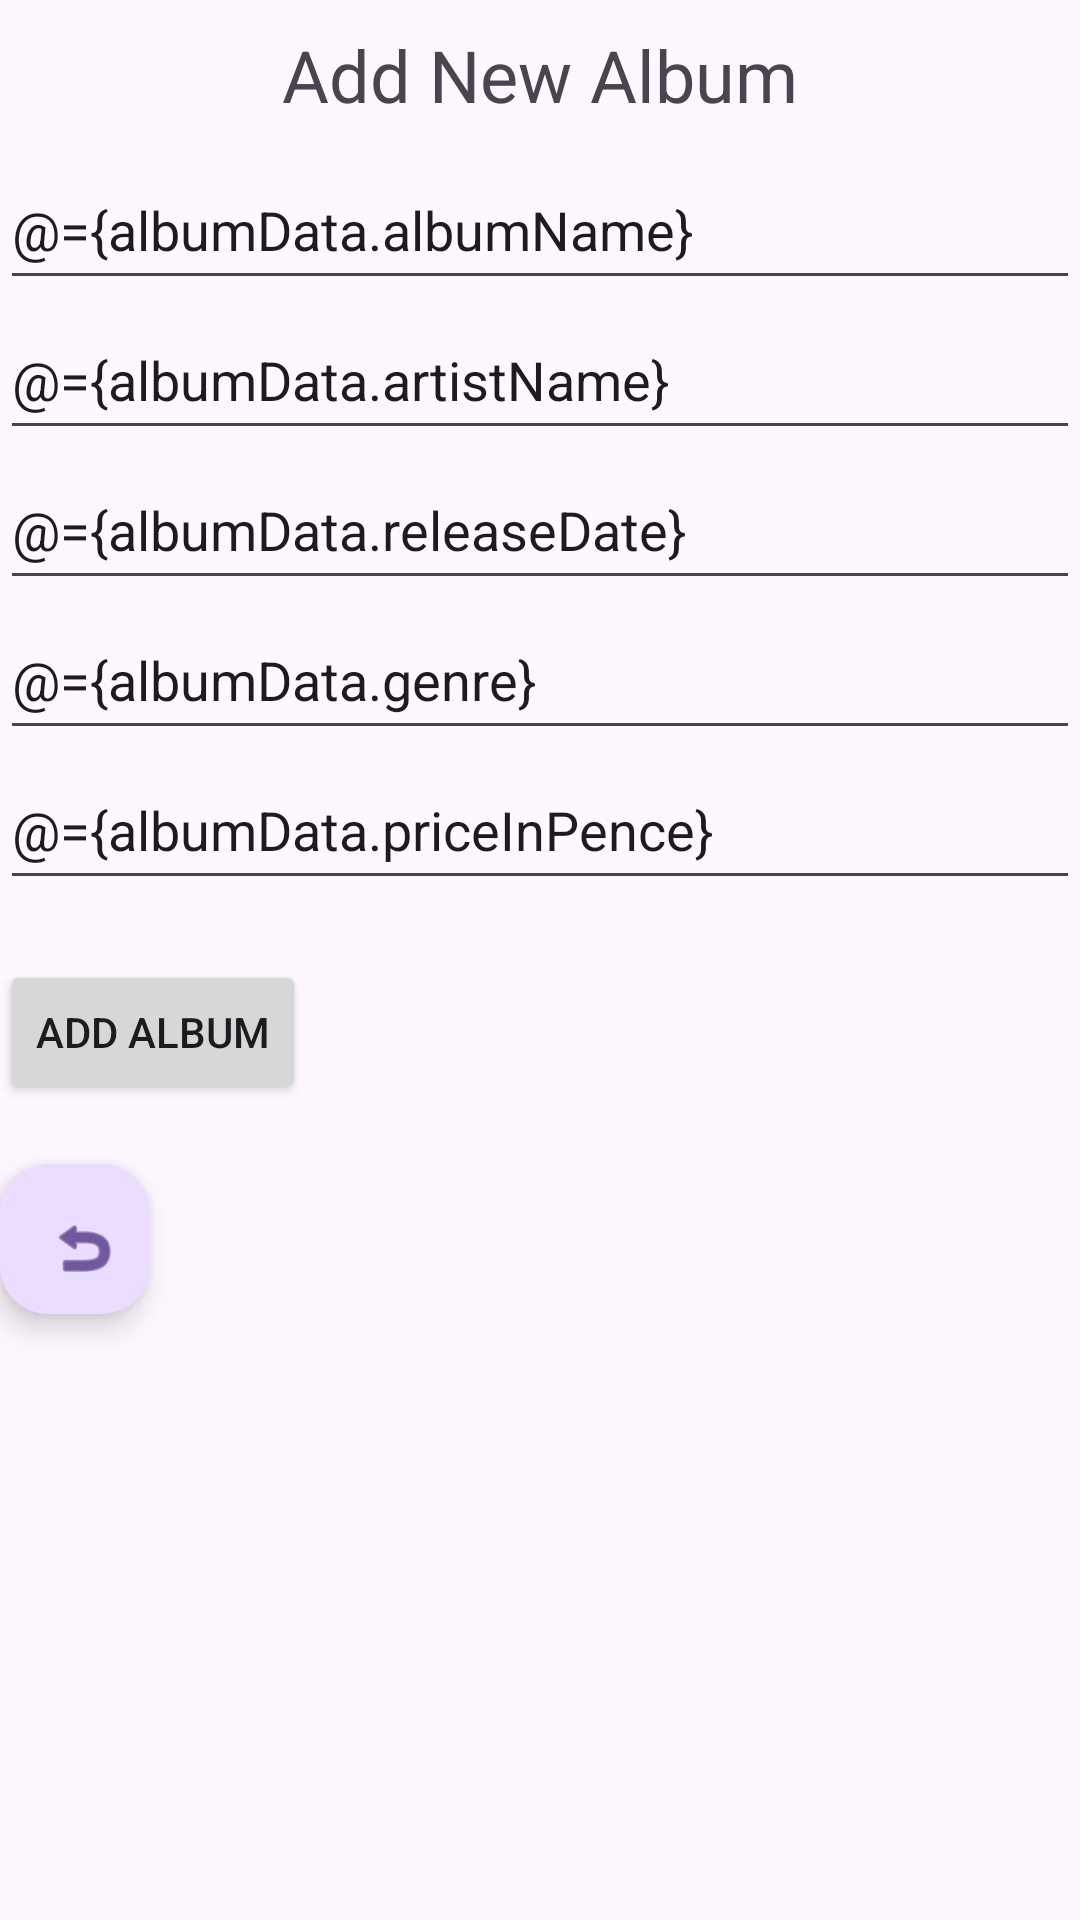

Named icons in this screenshot (1080×1920) and their bounding boxes, (x1, y1, x2, y2):
revert: (0, 1164, 150, 1314)
